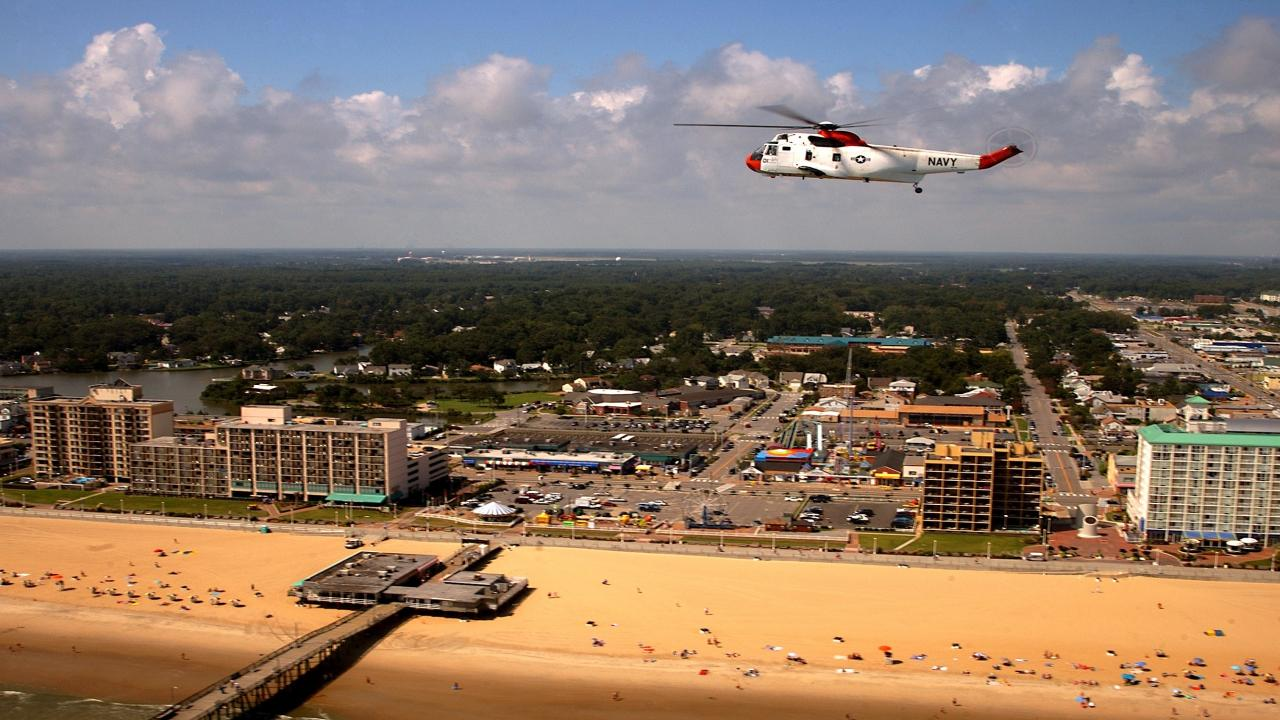Helicopter: (659, 72, 1054, 221)
